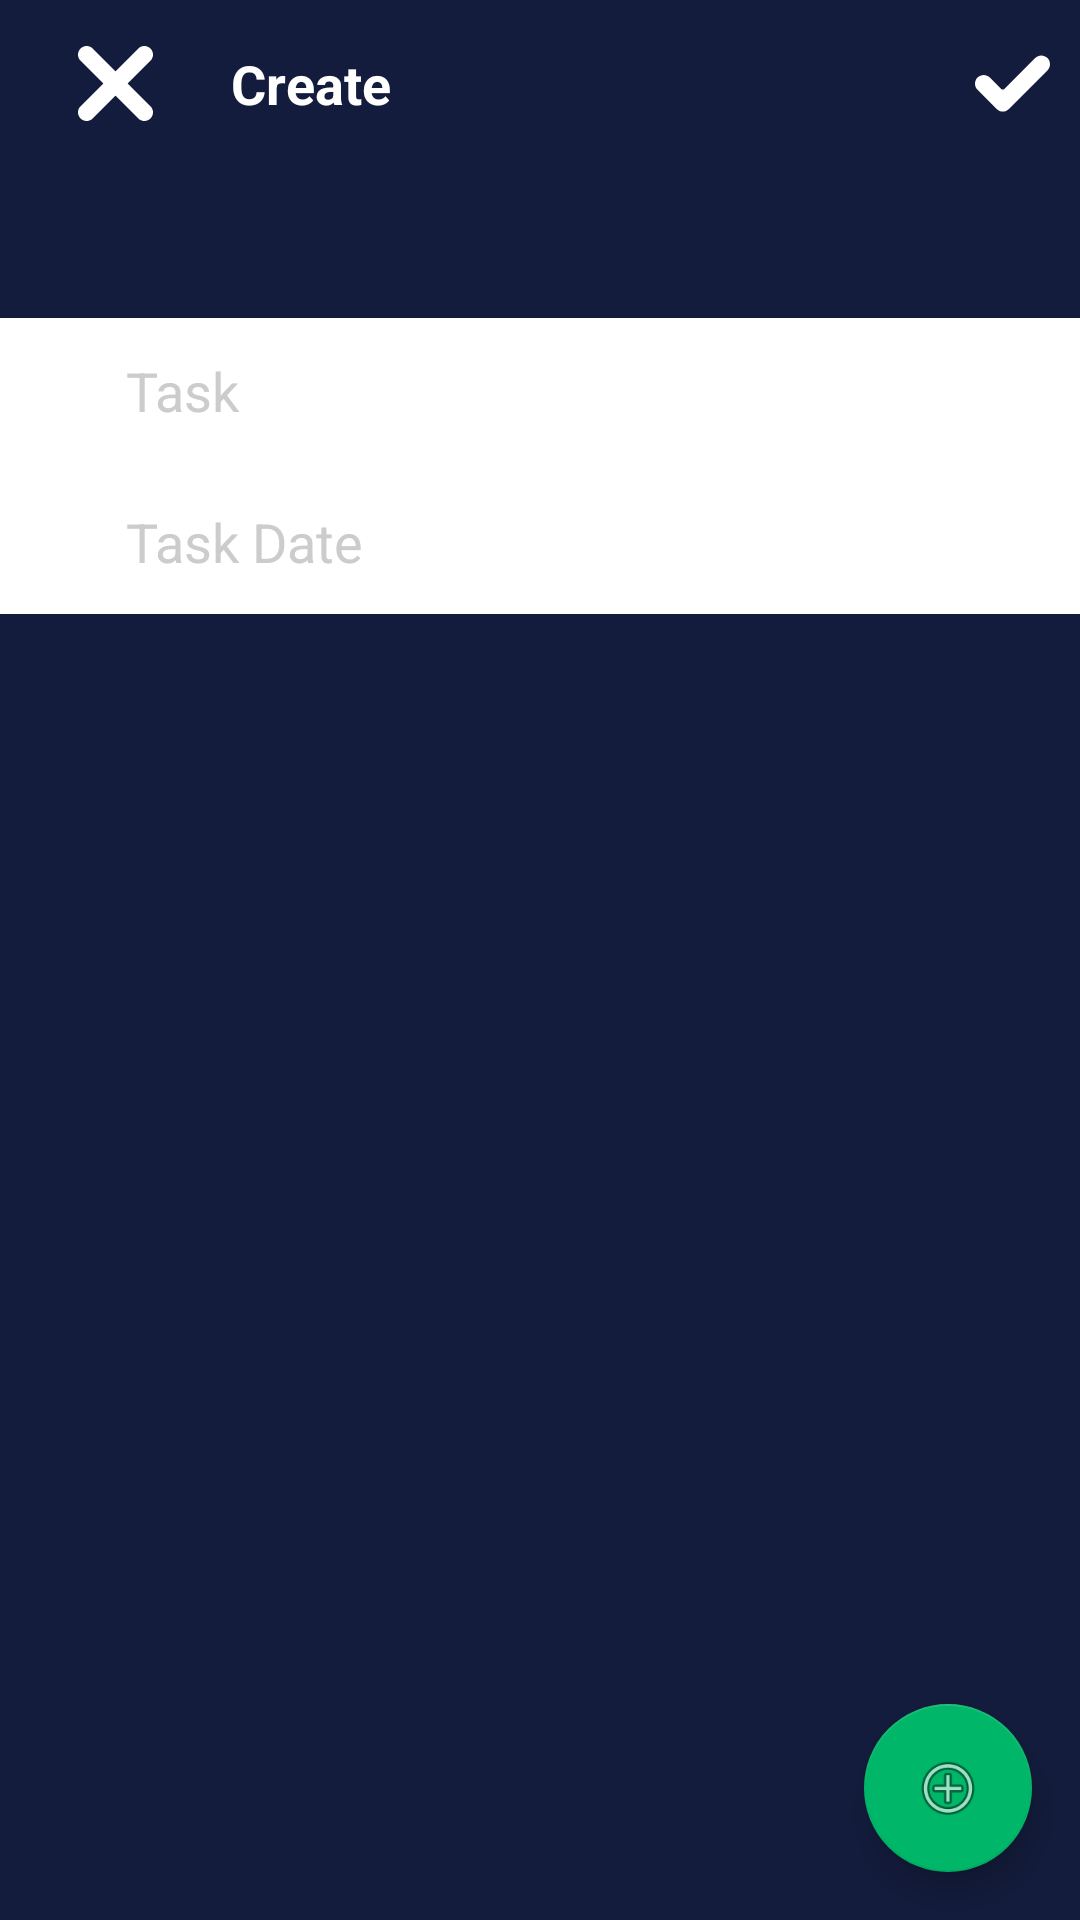

Point at icon controls on the screen. Image size 1080x1920, points as point (x, y).
add: point (948, 1788)
check mark: point (1012, 83)
